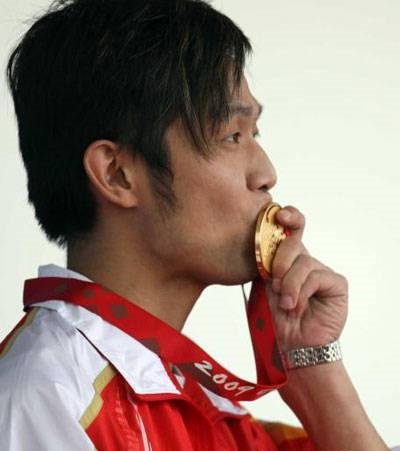face: (139, 43, 275, 284)
